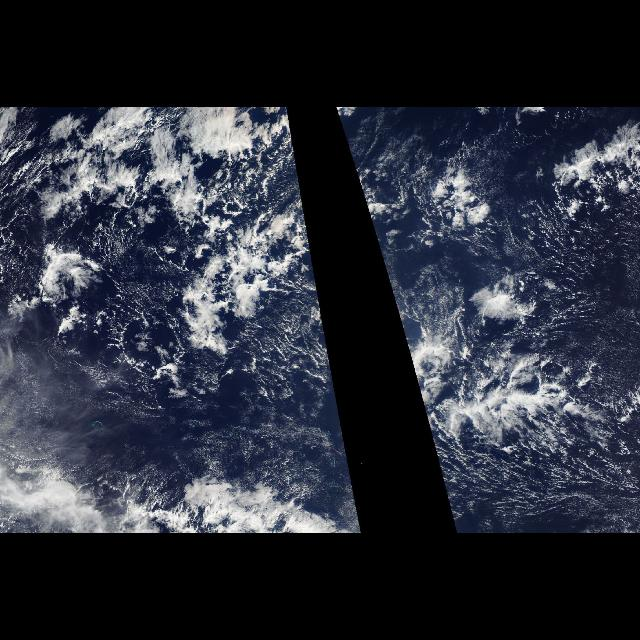Gravel: (4, 112, 294, 396), (350, 151, 636, 251), (405, 344, 633, 448)
Sugar: (443, 462, 634, 528), (167, 420, 345, 478)
